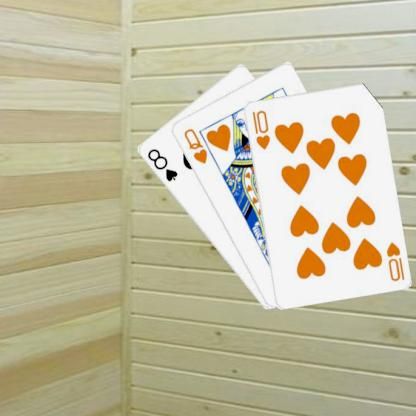10H: (383, 239, 406, 283), (249, 107, 271, 151)
8S: (144, 146, 179, 183)
QH: (180, 126, 209, 166)
